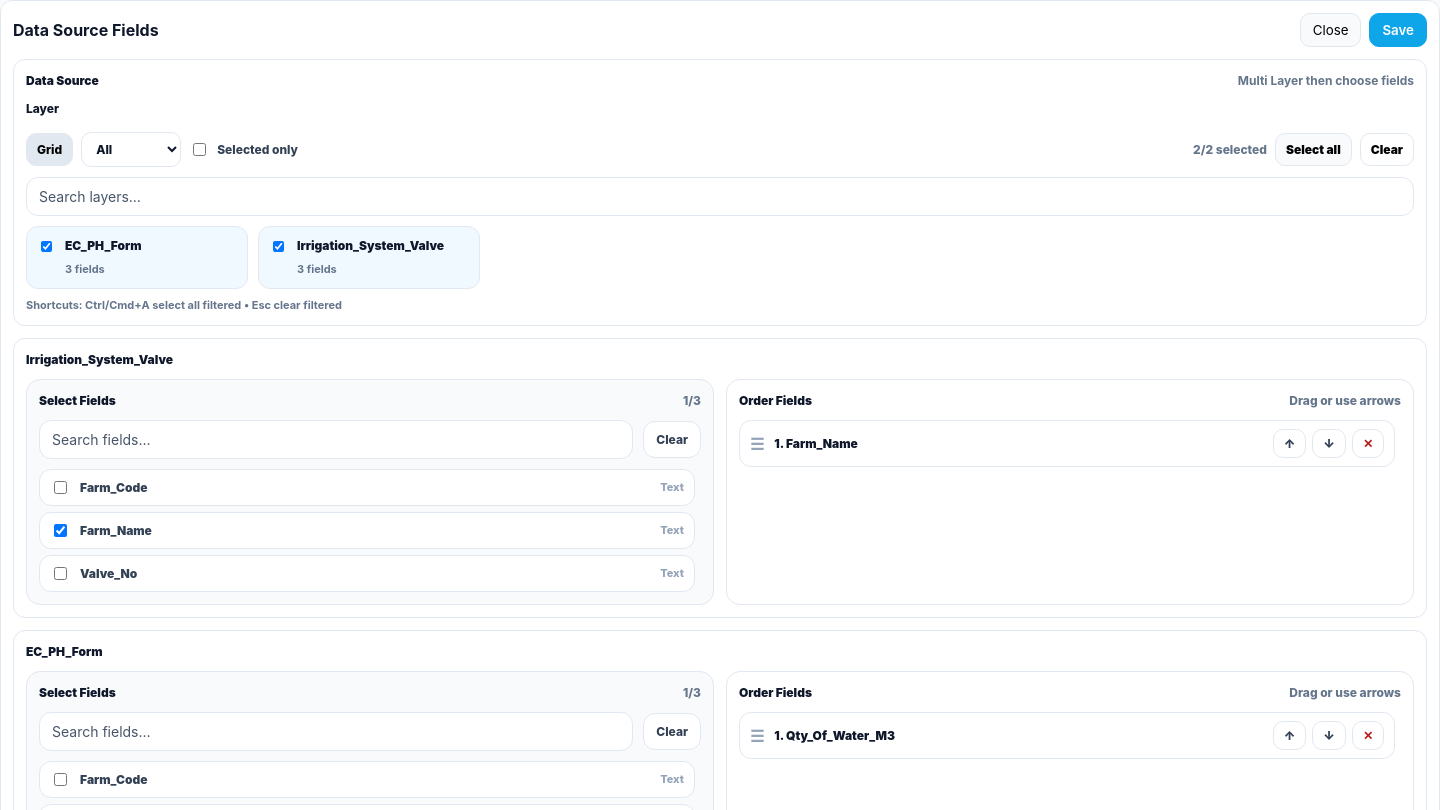
Test: DataSourceFieldsPanel field search is isolated per layer (settings) › keeps each Search fields input independent and does not mix results
In the field named "Irrigation_System_Valve:Search fields": [336, 440] box [39,420,633,459], type "Valve"
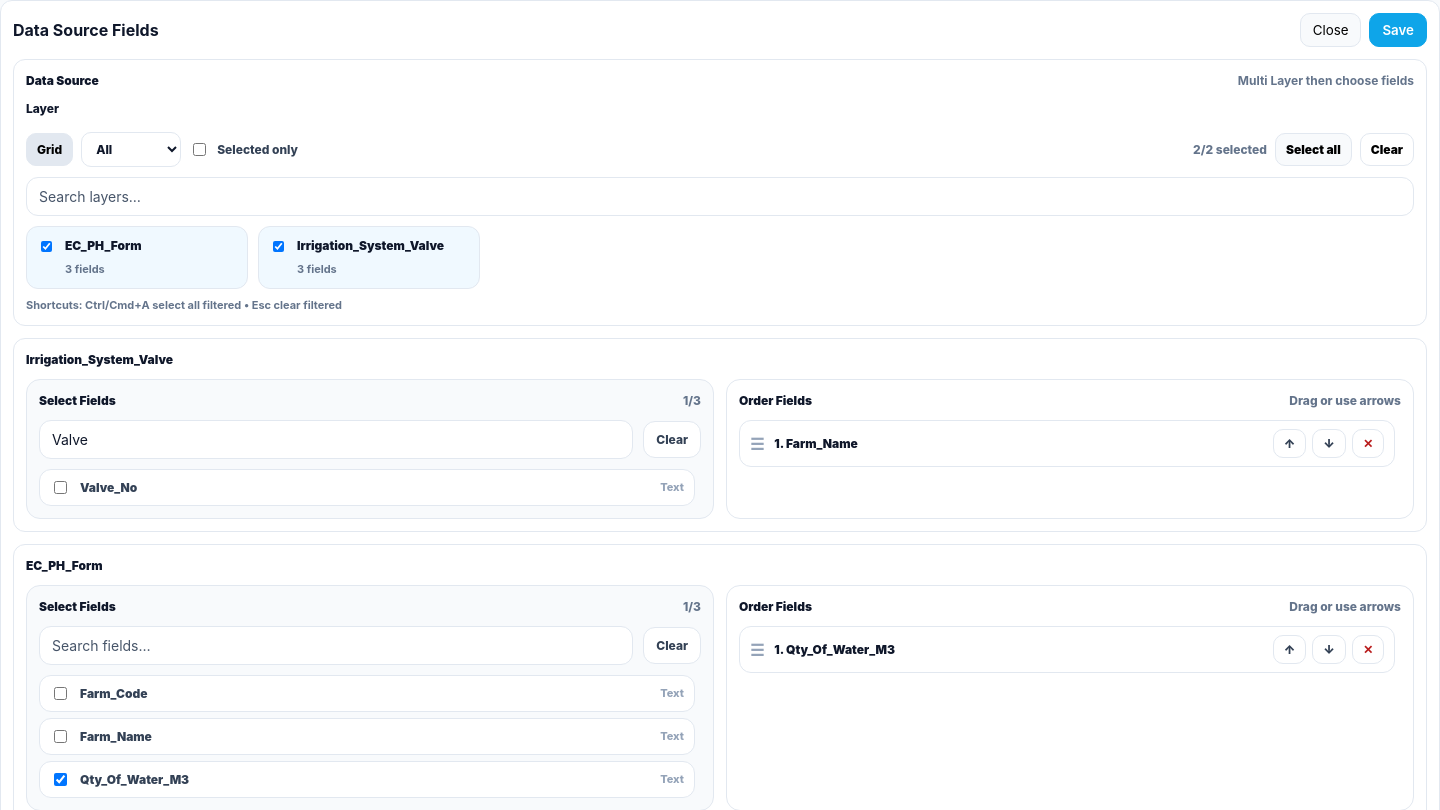
Check: the text "Valve_No" is shown, box [80,478,137,496]
Check: the text "Qty_Of_Water_M3" is shown, box [80,770,189,788]
In the field named "EC_PH_Form:Search fields": [336, 646] box [39,626,633,665], type "Qty"
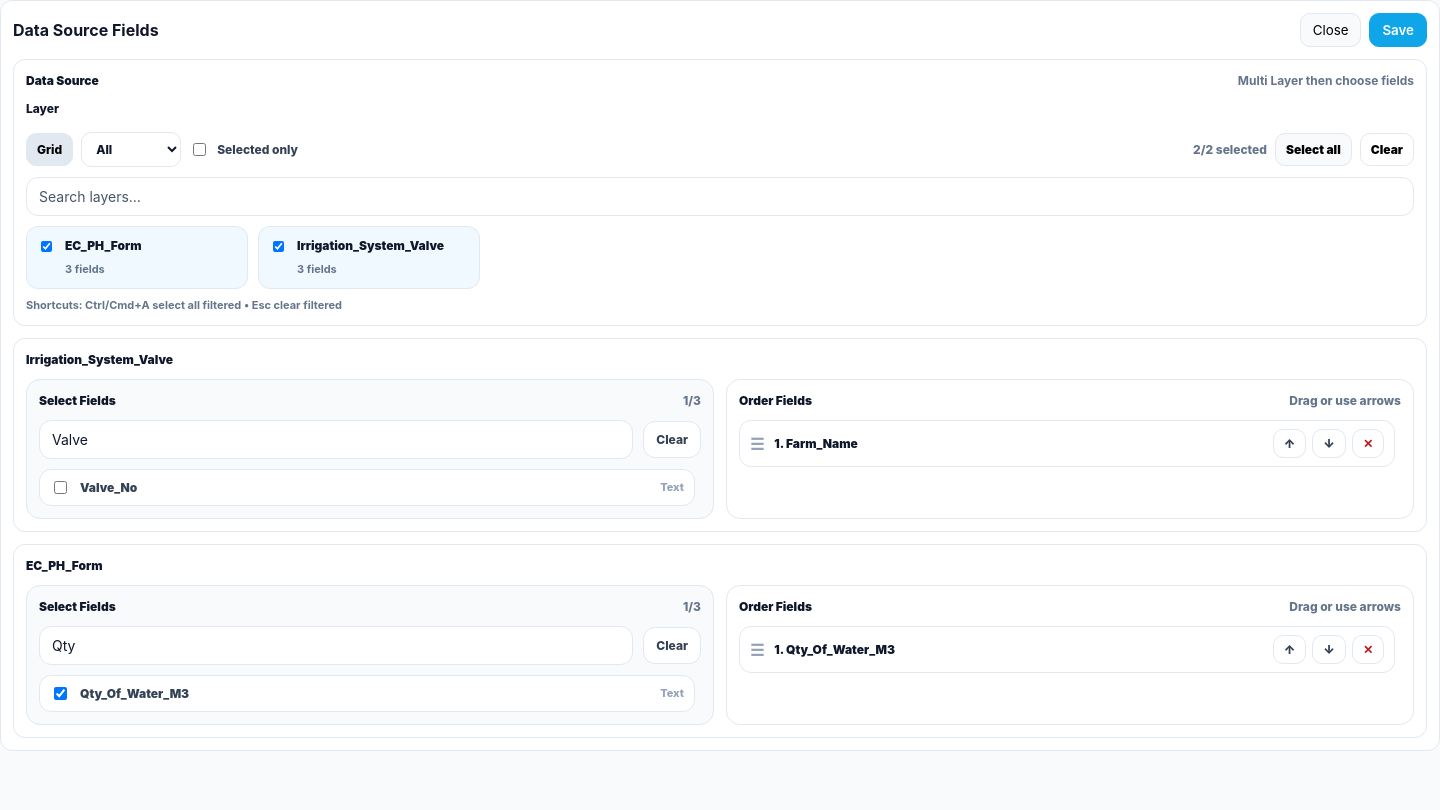
Check: the text "Valve_No" is shown, box [80,478,137,496]
Check: the text "Qty_Of_Water_M3" is shown, box [80,684,189,702]
Check: the text "Farm_Code" is gone
